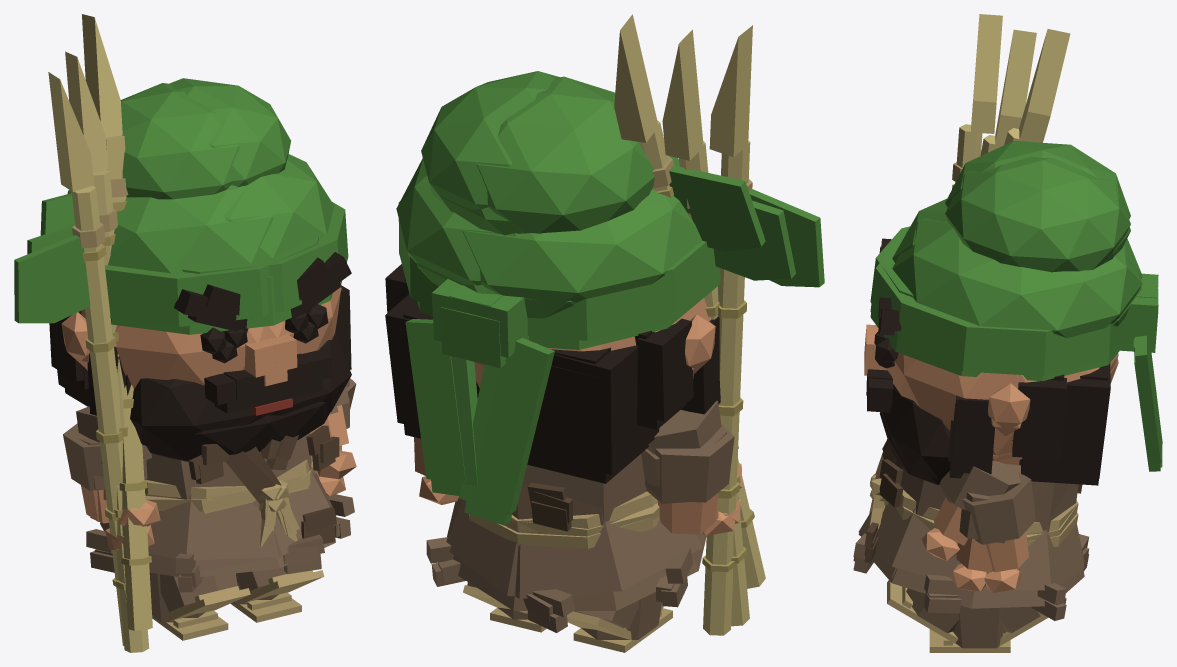
Rendered from militia_poses.glb.
The picture shows the model from 3 angles, left to right: view 1: azimuth 30°, elevation 25°; view 2: azimuth 150°, elevation 25°; view 3: azimuth 270°, elevation 25°; orthographic projection. The views are drawn at different scales.
Parts seen in each view (by area): view 1: pose_1, pose_3, pose_0; view 2: pose_1, pose_3, pose_0; view 3: pose_3, pose_1, pose_0.
Boxes of the visible parts, <box> form: pose_1: <box>14,72,356,645</box>; pose_3: <box>40,14,356,630</box>; pose_0: <box>27,51,350,652</box>; pose_1: <box>403,25,824,642</box>; pose_3: <box>385,14,765,617</box>; pose_0: <box>394,30,795,652</box>; pose_3: <box>853,29,1162,649</box>; pose_1: <box>853,14,1162,643</box>; pose_0: <box>853,29,1162,652</box>.
Bounding box in the file's own units: 1.22 × 1.97 × 0.9914.
